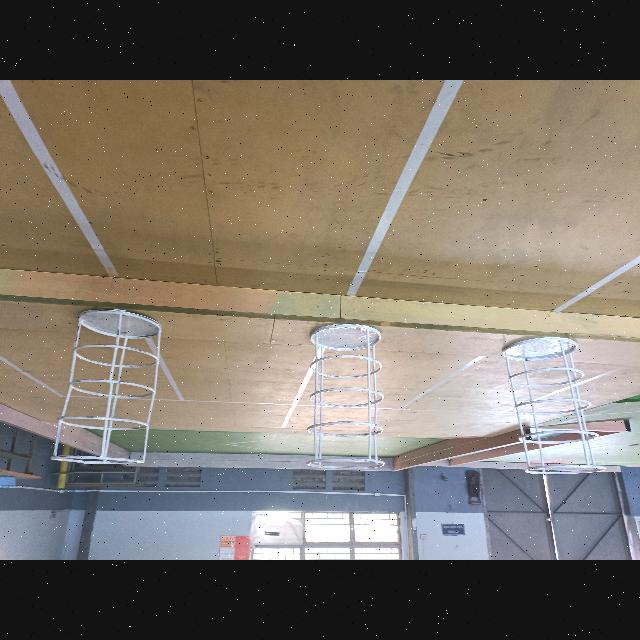S: (48, 306, 163, 467), (500, 335, 609, 476), (305, 322, 386, 472)
